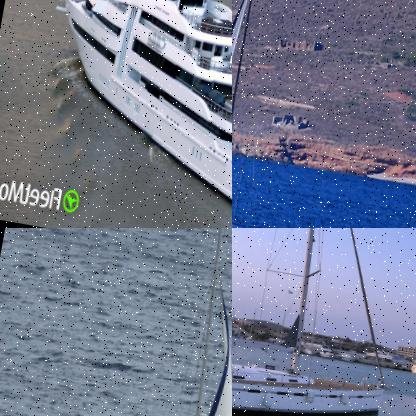Sails Boat: (232, 228, 415, 415), (73, 228, 231, 415), (232, 0, 331, 227)
Yacht: (25, 0, 231, 225)
